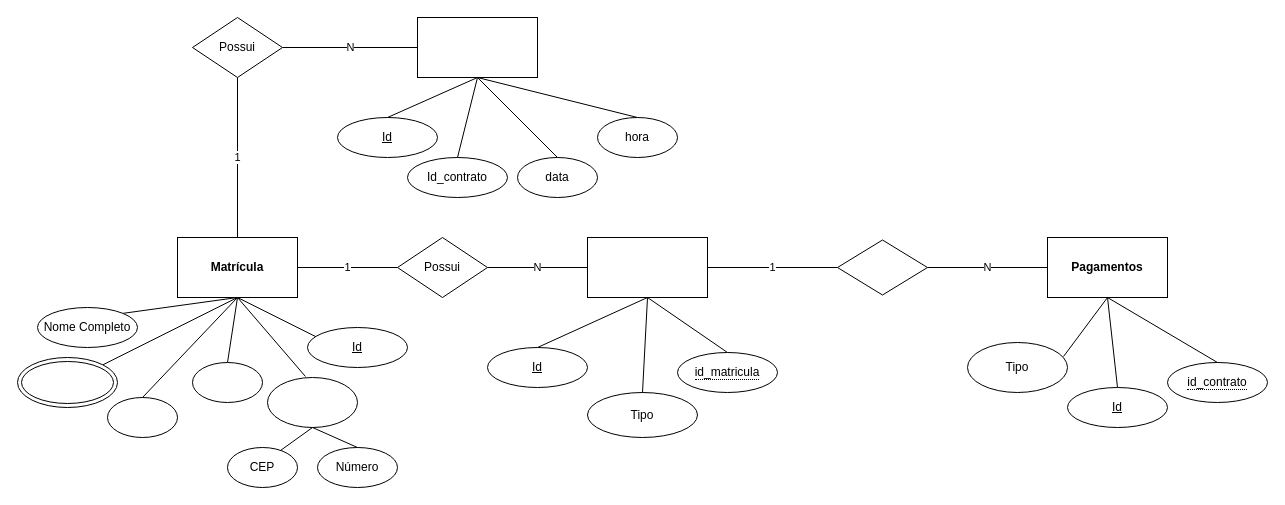
The diagram is 1285 pixels wide and 505 high, and some of its shapes have lost their labels. Here are the shapes that lost their labels. From the top down, the centre of each, then its label:
At (x=477, y=47): "Frequencia".
At (x=647, y=267): "Contrato".
At (x=882, y=267): "Contém".
At (x=67, y=382): "Telefone".
At (x=227, y=382): "CPF".
At (x=312, y=402): "Endereço".
At (x=142, y=417): "Email".
